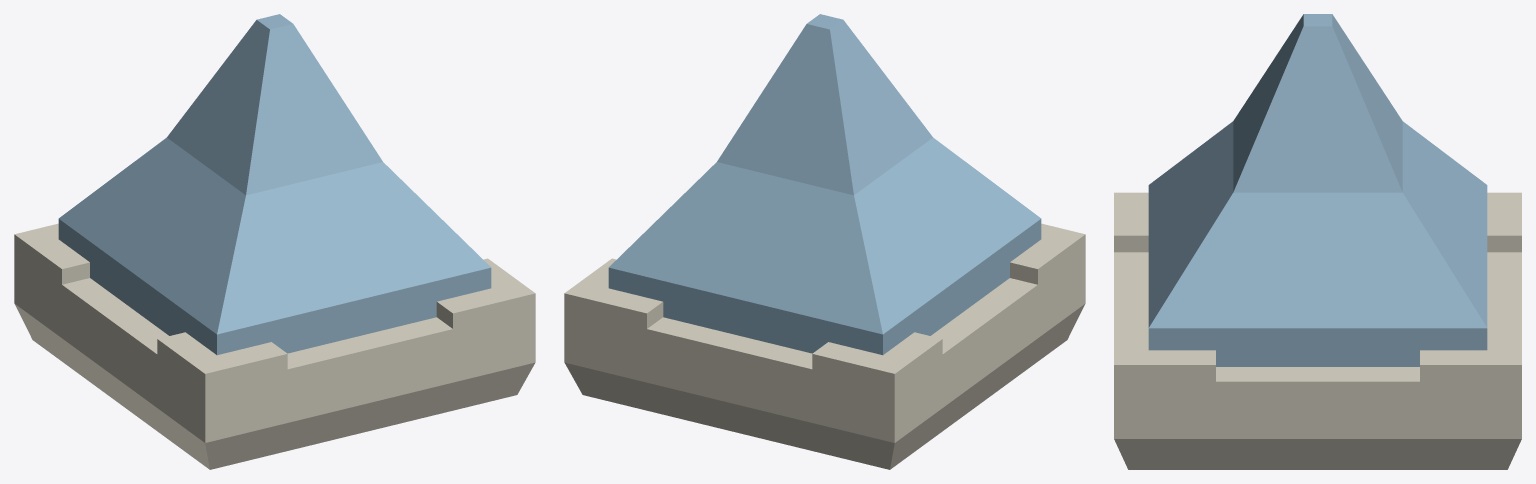
Rendered from towerSquareTopRoof.glb.
3 views of the same model, side by side, from view 1: azimuth 30°, elevation 25°; view 2: azimuth 150°, elevation 25°; view 3: azimuth 270°, elevation 25° (orthographic). The views are drawn at different scales.
Visible parts, largest first — view 1: towerSquareTopRoof; view 2: towerSquareTopRoof; view 3: towerSquareTopRoof.
Part boxes in pixels (left/top/right/bottom): towerSquareTopRoof: left=14, top=14, right=535, bottom=469; towerSquareTopRoof: left=564, top=14, right=1085, bottom=469; towerSquareTopRoof: left=1114, top=14, right=1521, bottom=469.
Size of the model in its own units: 10 by 10 by 10.
